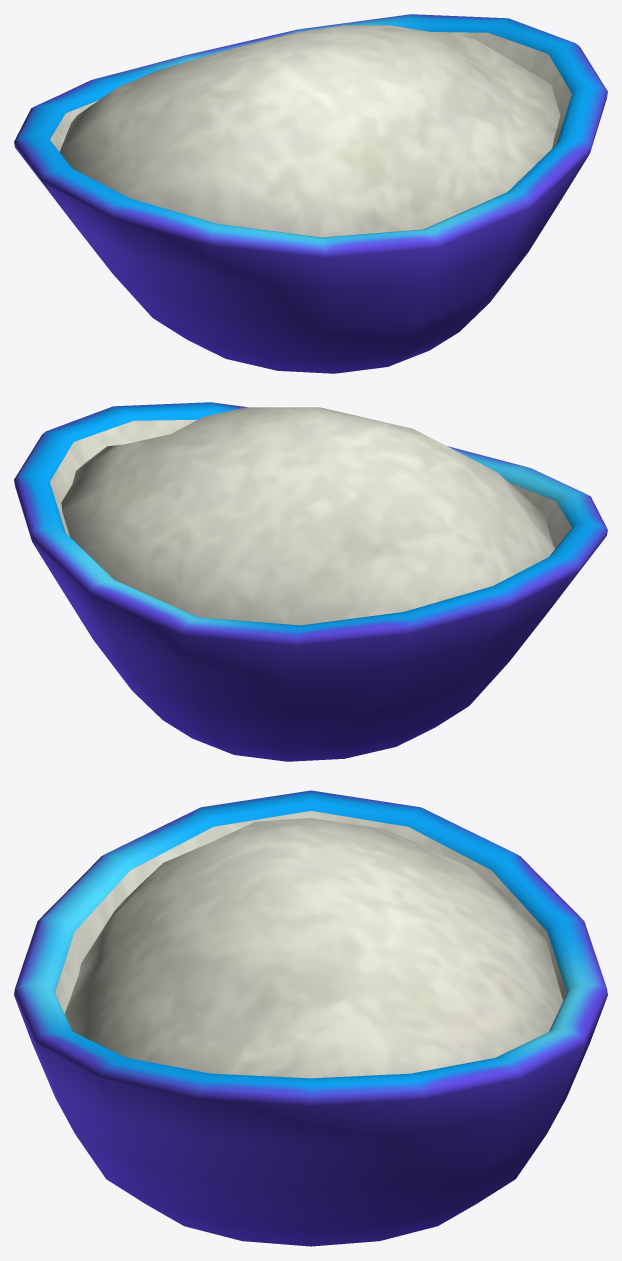
The model's file is Sugar.fbx.
3 renders of one model, top to bottom at view 1: azimuth 30°, elevation 25°; view 2: azimuth 150°, elevation 25°; view 3: azimuth 270°, elevation 25°, orthographic. The views are drawn at different scales.
Visible parts, largest first — view 1: sugar, sugar_bowl; view 2: sugar, sugar_bowl; view 3: sugar_bowl, sugar.
Boxes of the visible parts, bbox=[...] form: sugar: bbox=[60, 25, 560, 237]; sugar_bowl: bbox=[14, 14, 607, 373]; sugar: bbox=[61, 407, 554, 625]; sugar_bowl: bbox=[14, 402, 607, 761]; sugar_bowl: bbox=[14, 790, 607, 1246]; sugar: bbox=[65, 818, 563, 1078].
Bounding box in the file's own units: 117 × 95.58 × 60.18.
